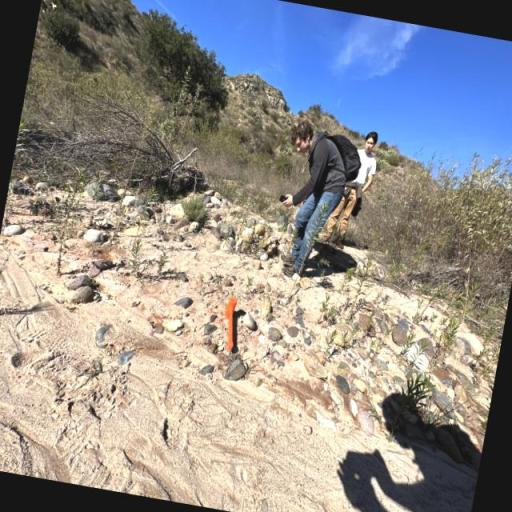mallet: (218, 296, 240, 350)
